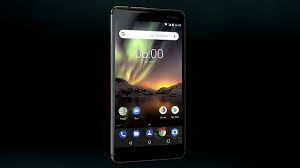nokia: (106, 3, 189, 166)
